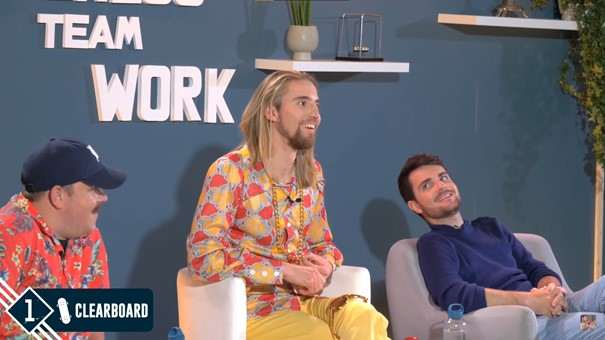without_mask: (264, 80, 321, 156), (47, 180, 109, 235), (401, 167, 461, 223)
